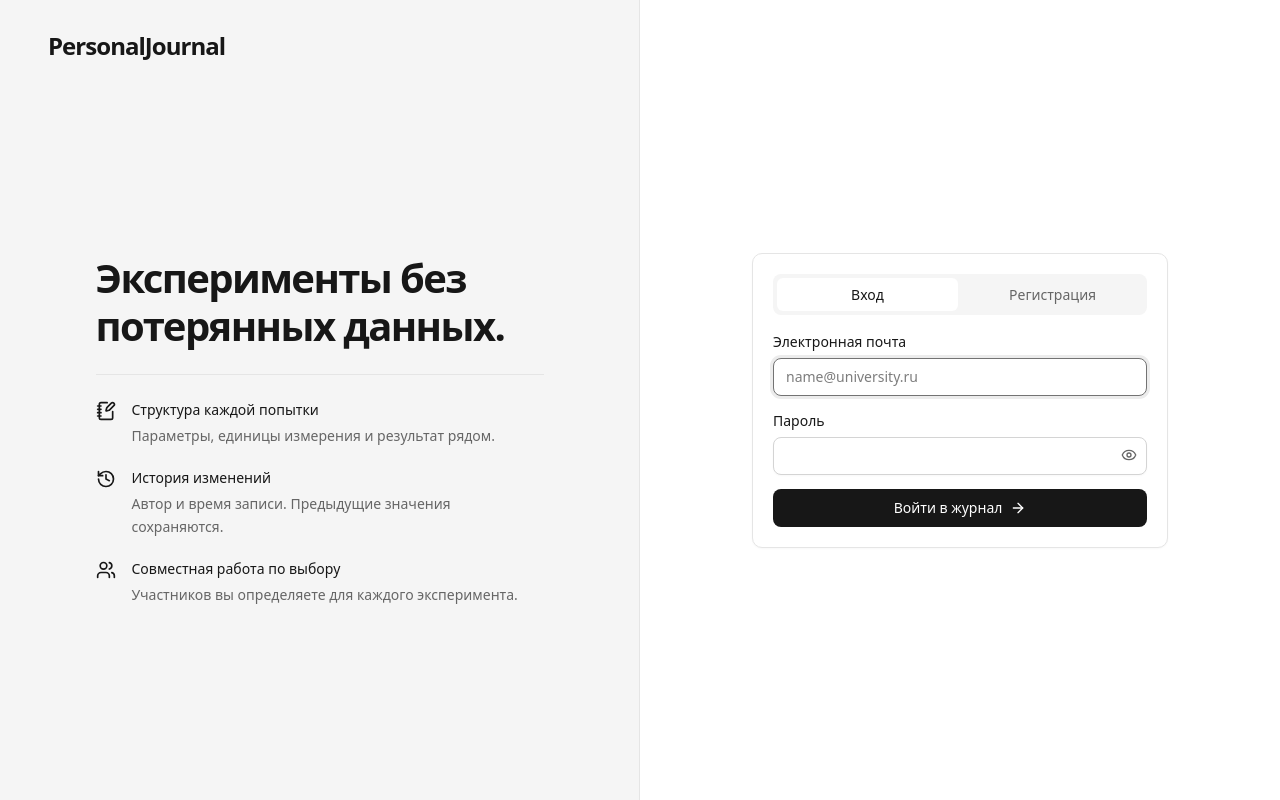
Test: Authentication boundary › shows an incorrect login error without rechecking the session or leaving the form
Check: the form named "Вход в журнал" is shown, box [773, 330, 1147, 526]
Type "anna@example.test" into the field labelled "Электронная почта" at (960, 376), box [773, 358, 1147, 396]
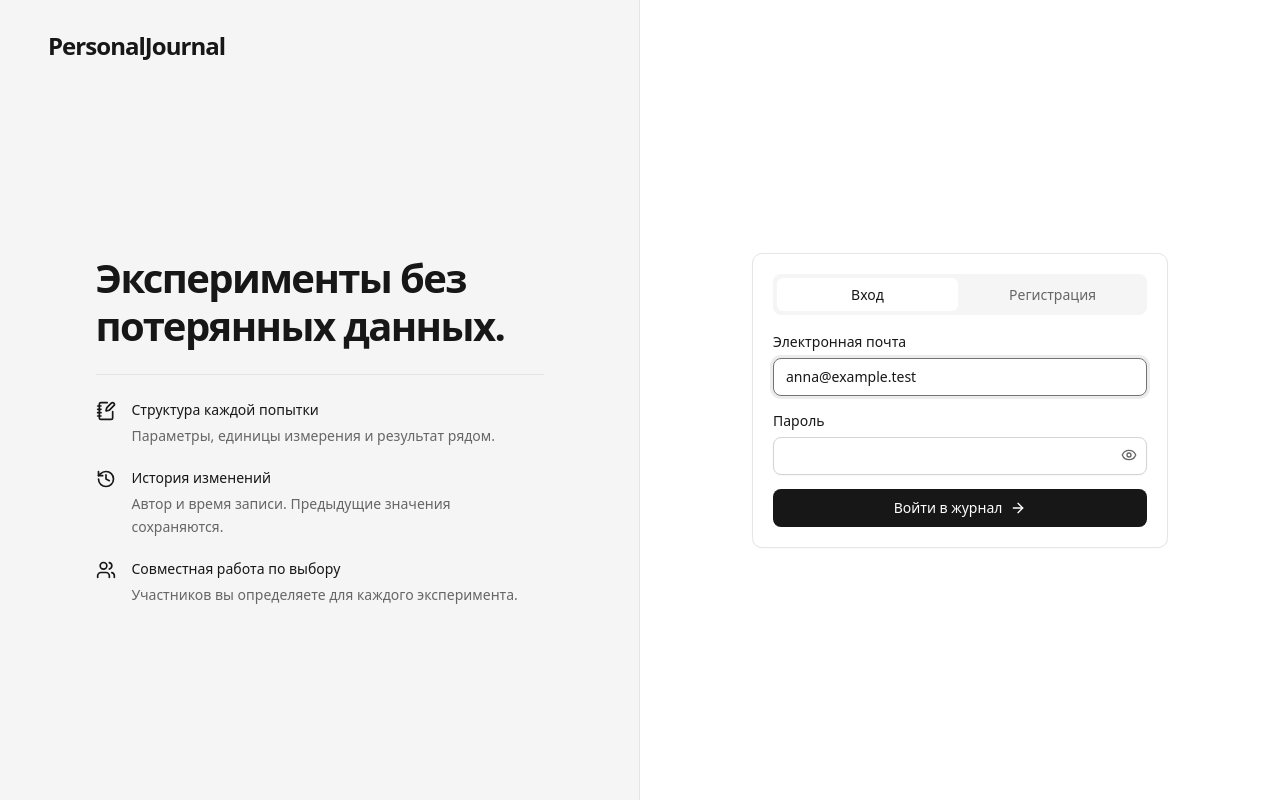
Type "  correct password  " into the password field labelled "Пароль" at (960, 456), box [773, 436, 1147, 474]
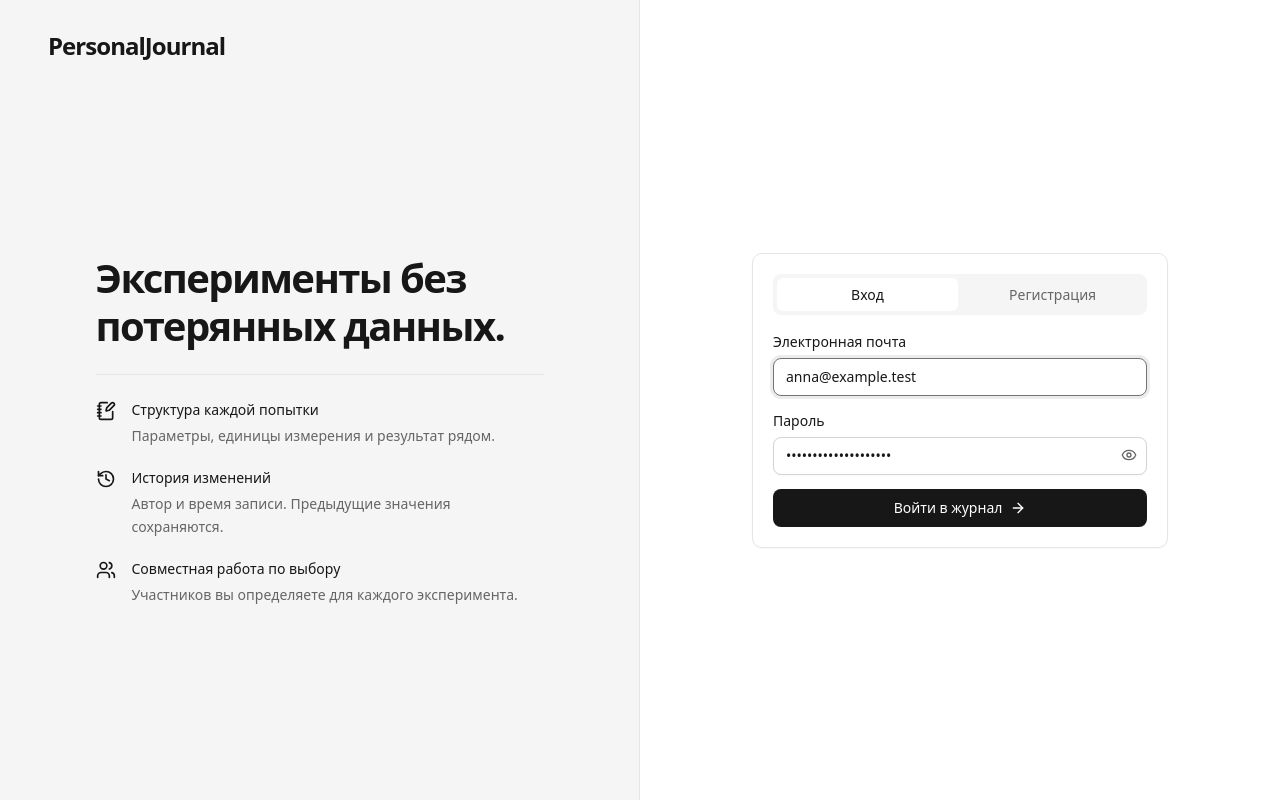
Click the button "Войти в журнал" at (960, 508), box [773, 488, 1147, 526]
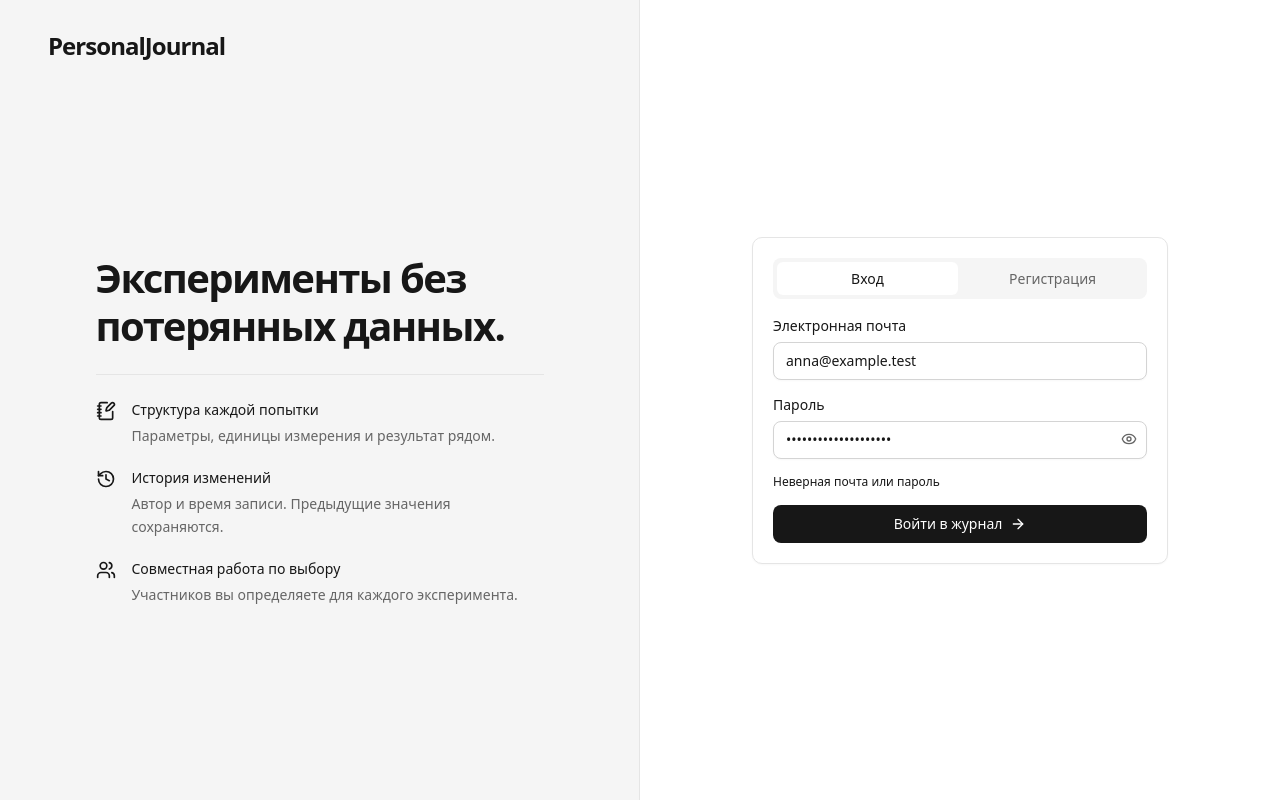
Check: the form named "Вход в журнал" is shown, box [773, 314, 1147, 542]
Check: the message reads "Неверная почта или пароль", box [773, 472, 940, 490]
